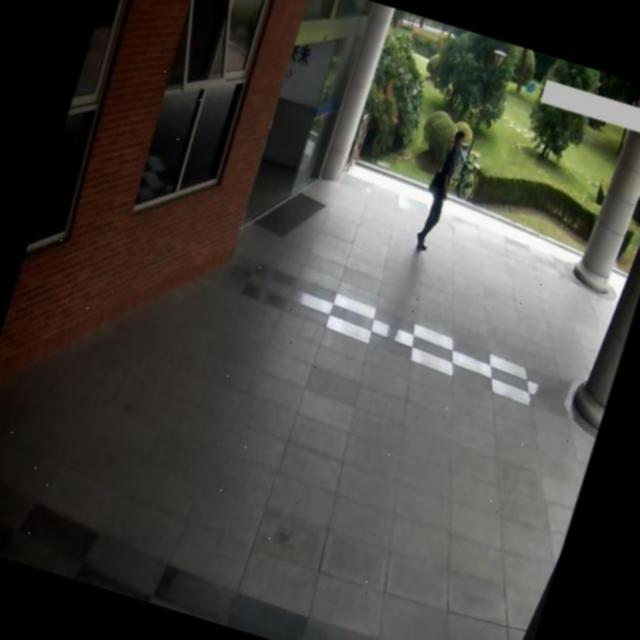person: (402, 121, 476, 266)
